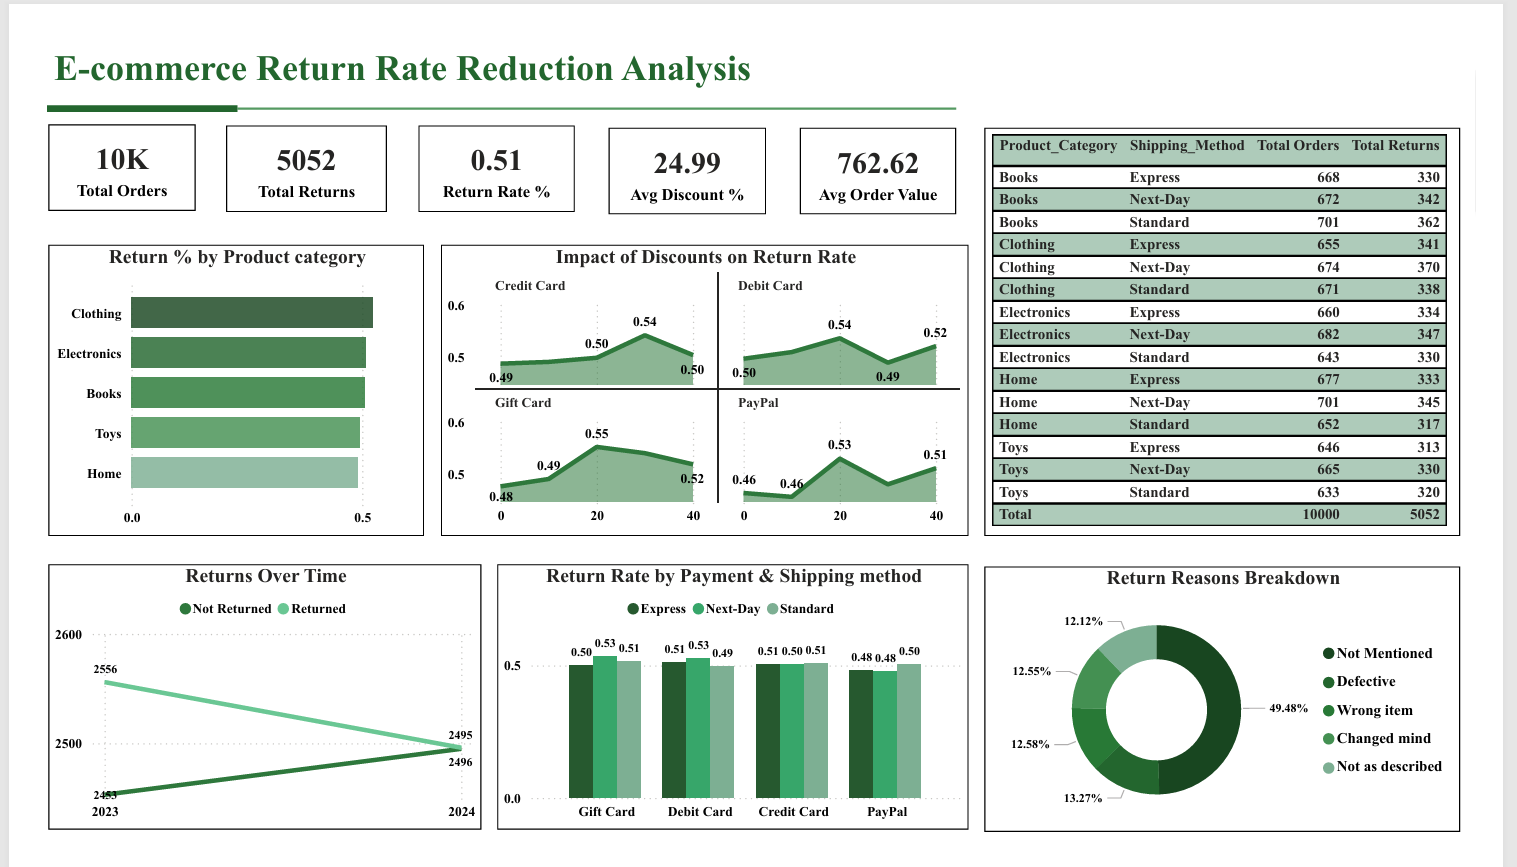

What the dashboard file says about the page in this screenshot:
{"tool":"powerbi","page":{"name":"Page 1","canvas":[1280,720],"ordinal":0},"visuals":[{"type":"card","fields":{"Values":["updated_ecommerce_returns.Total Orders"]},"box":[11,83.2,130.8,77],"z":0},{"type":"card","fields":{"Values":["updated_ecommerce_returns.Total Returns"]},"box":[168.8,84.4,143.1,77],"z":1000},{"type":"card","fields":{"Values":["updated_ecommerce_returns.Return Rate %"]},"box":[339.9,84.4,139.4,77],"z":2000},{"type":"card","fields":{"Values":["updated_ecommerce_returns.Avg Discount %"]},"box":[508.7,85.6,140.6,77],"z":3000},{"type":"card","fields":{"Values":["updated_ecommerce_returns.Avg Order Value"]},"box":[678.7,85.6,139.4,77],"z":4000},{"type":"clusteredBarChart","title":"Return % by Product category","fields":{"Category":["updated_ecommerce_returns.Product_Category"],"Y":["updated_ecommerce_returns.Return Rate %"]},"box":[11,189.5,333.8,259.2],"z":5000},{"type":"lineChart","title":"Returns Over Time","fields":{"Series":["updated_ecommerce_returns.Return_Status"],"Y":["updated_ecommerce_returns.Total Orders"],"Category":["updated_ecommerce_returns.Order_Date.Variation.Date Hierarchy.Year"]},"box":[11,474.5,385.2,236],"z":6000},{"type":"donutChart","title":"Return Reasons Breakdown","fields":{"Category":["updated_ecommerce_returns.Return_Reason"],"Y":["CountNonNull(updated_ecommerce_returns.Return_Reason)"]},"box":[842.5,475.7,423.1,236],"z":7000},{"type":"areaChart","title":"Impact of Discounts on Return Rate","fields":{"Category":["updated_ecommerce_returns.Discount_Applied (bins)"],"Y":["updated_ecommerce_returns.Return Rate %"],"Rows":["updated_ecommerce_returns.Payment_Method"]},"box":[359.5,189.5,469.6,259.2],"z":8000},{"type":"clusteredColumnChart","title":"Return Rate by Payment & Shipping method","fields":{"Category":["updated_ecommerce_returns.Payment_Method"],"Y":["updated_ecommerce_returns.Return Rate %"],"Series":["updated_ecommerce_returns.Shipping_Method"]},"box":[409.6,474.5,419.4,236],"z":9000},{"type":"tableEx","fields":{"Values":["updated_ecommerce_returns.Product_Category","updated_ecommerce_returns.Shipping_Method","updated_ecommerce_returns.Total Orders","updated_ecommerce_returns.Total Returns"]},"box":[842.5,85.6,423.1,363.2],"z":10000},{"type":"textbox","box":[11,9.8,807.1,47.7],"z":11000},{"type":"shape","box":[9.8,45.2,168.8,47.7],"z":12000},{"type":"shape","box":[178.5,48.9,639.5,40.4],"z":13000}]}

Visuals, with their boxes in screenshot pixels (x1, y1, x2, y2), scaled from the page's 1280x720 canvas onto the 1517x867 screenshot:
card - updated_ecommerce_returns.Total Orders: [13,100,168,193]
card - updated_ecommerce_returns.Total Returns: [200,102,370,194]
card - updated_ecommerce_returns.Return Rate %: [403,102,568,194]
card - updated_ecommerce_returns.Avg Discount %: [603,103,770,196]
card - updated_ecommerce_returns.Avg Order Value: [804,103,970,196]
"Return % by Product category" clusteredBarChart: [13,228,409,540]
"Returns Over Time" lineChart: [13,571,470,856]
"Return Reasons Breakdown" donutChart: [998,573,1500,857]
"Impact of Discounts on Return Rate" areaChart: [426,228,983,540]
"Return Rate by Payment & Shipping method" clusteredColumnChart: [485,571,982,856]
tableEx - updated_ecommerce_returns.Product_Category x updated_ecommerce_returns.Shipping_Method: [998,103,1500,540]
textbox: [13,12,970,69]
shape: [12,54,212,112]
shape: [212,59,969,108]
